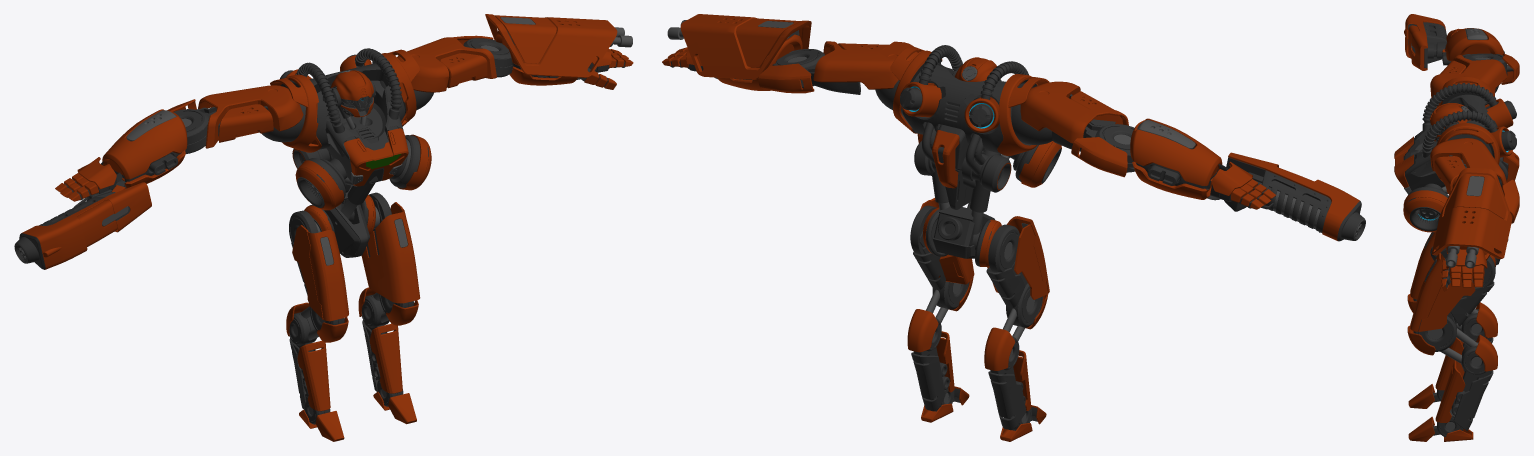
The model's file is BossRobot.fbx.
3 views of the same model, side by side, from view 1: azimuth 30°, elevation 25°; view 2: azimuth 150°, elevation 25°; view 3: azimuth 270°, elevation 25° (orthographic). The views are drawn at different scales.
Parts seen in each view (by area): view 1: CHEST, WEAPON, GUN, ARM.002, THIGH.029, THIGH.001, ARM.001, FOREARM, SHIN.029, SHIN.030, HIP.017, HEAD.004 (+4 smaller); view 2: CHEST, ARM.002, WEAPON, ARM.001, GUN, FOREARM, THIGH.001, SHIN.029, SHIN.030, HIP.017, THIGH.029, HAND.018 (+2 smaller); view 3: CHEST, WEAPON, THIGH.029, SHIN.030, ARM.001, ARM.002, GUN, SHIN.029, FOREARM, THIGH.001, FOOT.037, HEAD.004 (+4 smaller).
Boxes of the visible parts, bbox=[...] form: CHEST: bbox=[262, 48, 433, 210]; WEAPON: bbox=[485, 14, 632, 77]; GUN: bbox=[14, 182, 151, 269]; ARM.002: bbox=[167, 85, 303, 153]; THIGH.029: bbox=[361, 192, 420, 325]; THIGH.001: bbox=[289, 210, 348, 342]; ARM.001: bbox=[397, 35, 512, 92]; FOREARM: bbox=[101, 109, 187, 188]; SHIN.029: bbox=[286, 302, 330, 424]; SHIN.030: bbox=[358, 287, 403, 406]; HIP.017: bbox=[304, 188, 379, 257]; HEAD.004: bbox=[330, 70, 375, 117]; CHEST: bbox=[875, 45, 1061, 209]; ARM.002: bbox=[1020, 81, 1135, 177]; WEAPON: bbox=[667, 14, 811, 79]; ARM.001: bbox=[758, 41, 917, 94]; GUN: bbox=[1224, 152, 1365, 241]; FOREARM: bbox=[1127, 118, 1228, 200]; THIGH.001: bbox=[986, 216, 1049, 329]; SHIN.029: bbox=[984, 327, 1031, 430]; SHIN.030: bbox=[907, 309, 954, 411]; HIP.017: bbox=[923, 206, 1001, 266]; THIGH.029: bbox=[910, 198, 974, 311]; HAND.018: bbox=[1210, 161, 1252, 201]; CHEST: bbox=[1394, 76, 1519, 232]; WEAPON: bbox=[1431, 168, 1511, 268]; THIGH.029: bbox=[1407, 252, 1495, 355]; SHIN.030: bbox=[1435, 334, 1497, 437]; ARM.001: bbox=[1430, 138, 1519, 223]; ARM.002: bbox=[1430, 53, 1519, 97]; GUN: bbox=[1404, 14, 1446, 70]; SHIN.029: bbox=[1435, 302, 1497, 401]; FOREARM: bbox=[1442, 28, 1504, 65]; THIGH.001: bbox=[1407, 232, 1436, 312]; FOOT.037: bbox=[1408, 416, 1473, 441]; HEAD.004: bbox=[1429, 103, 1470, 141].
Size of the model in its own units: 1364 by 726 by 254.
